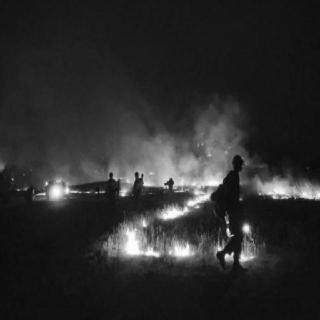Fire: (263, 174, 317, 206), (238, 220, 256, 264)
Smoke: (8, 41, 254, 175)
other: (47, 172, 73, 206)
